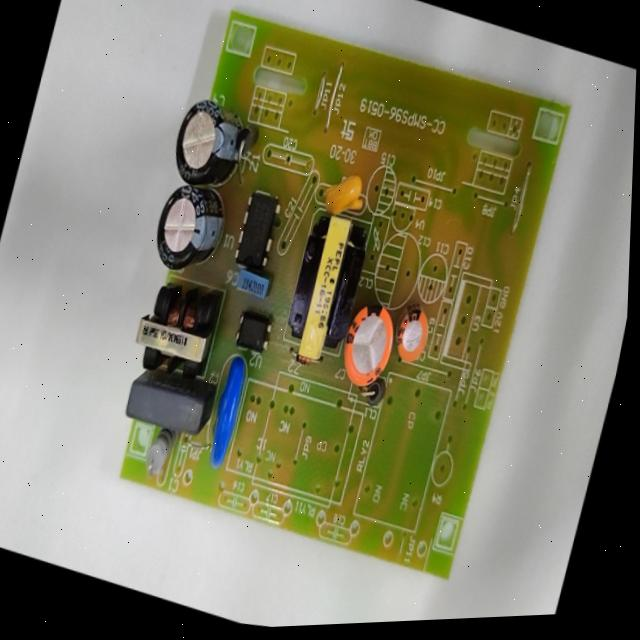Cap1: (331, 289, 405, 401)
Cap2: (387, 294, 438, 377)
Cap3: (142, 170, 237, 289)
Cap4: (161, 86, 255, 198)
MOSFET: (227, 181, 289, 280)
Mov: (198, 348, 257, 480)
Resistor: (136, 421, 179, 489)
Transformer: (273, 199, 378, 376), (123, 267, 227, 390)
